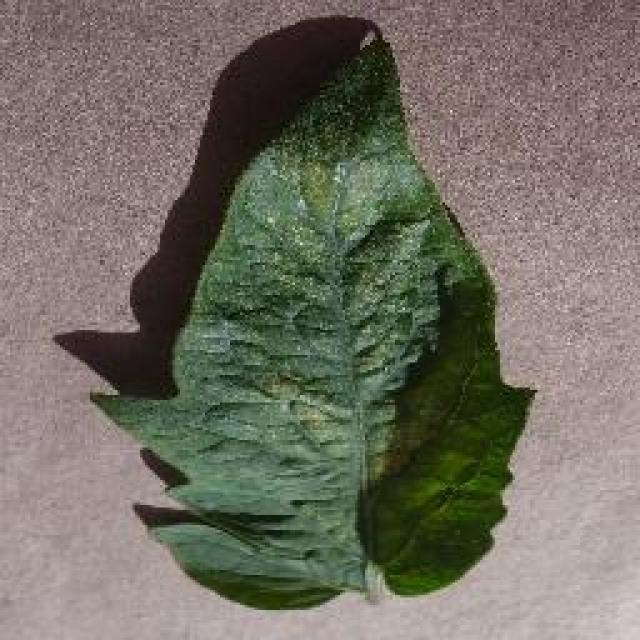Tomato spider mites leaf: (87, 38, 540, 612)
